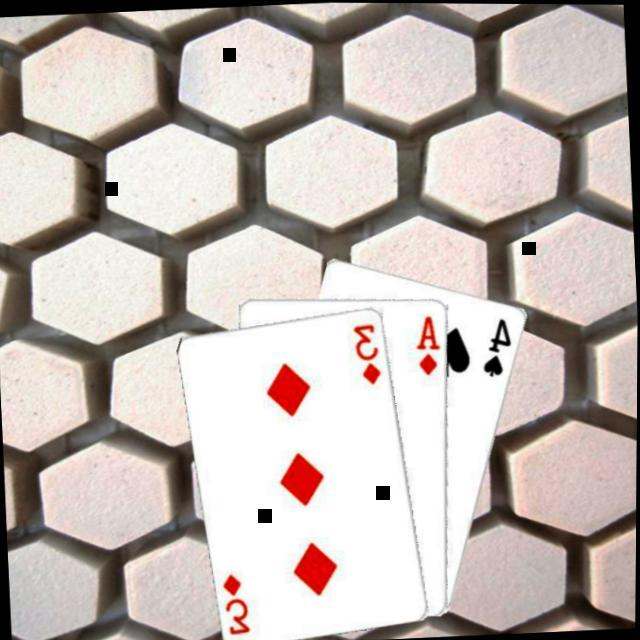3D: (349, 317, 384, 385), (220, 567, 253, 634)
4S: (478, 311, 515, 376)
AD: (412, 310, 443, 375)
